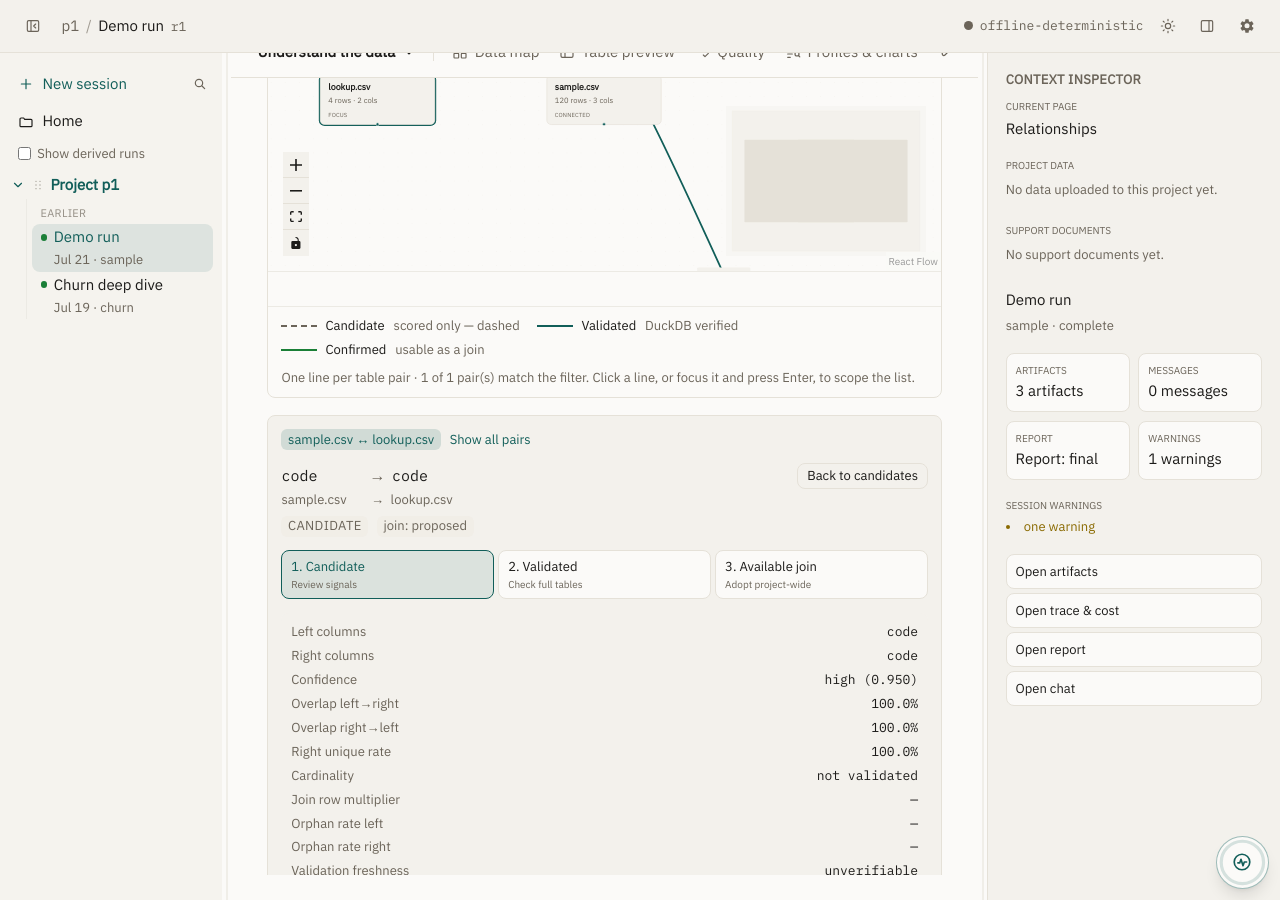
Test case: Relationships page › restores score, confidence, pair, and edge context from the URL
(page scrolled)
Expected: the list named "Relationship review progress" is shown, [282,550,928,599]
Click the button "Back to candidates".
click(863, 476)  # box [797,463,928,489]
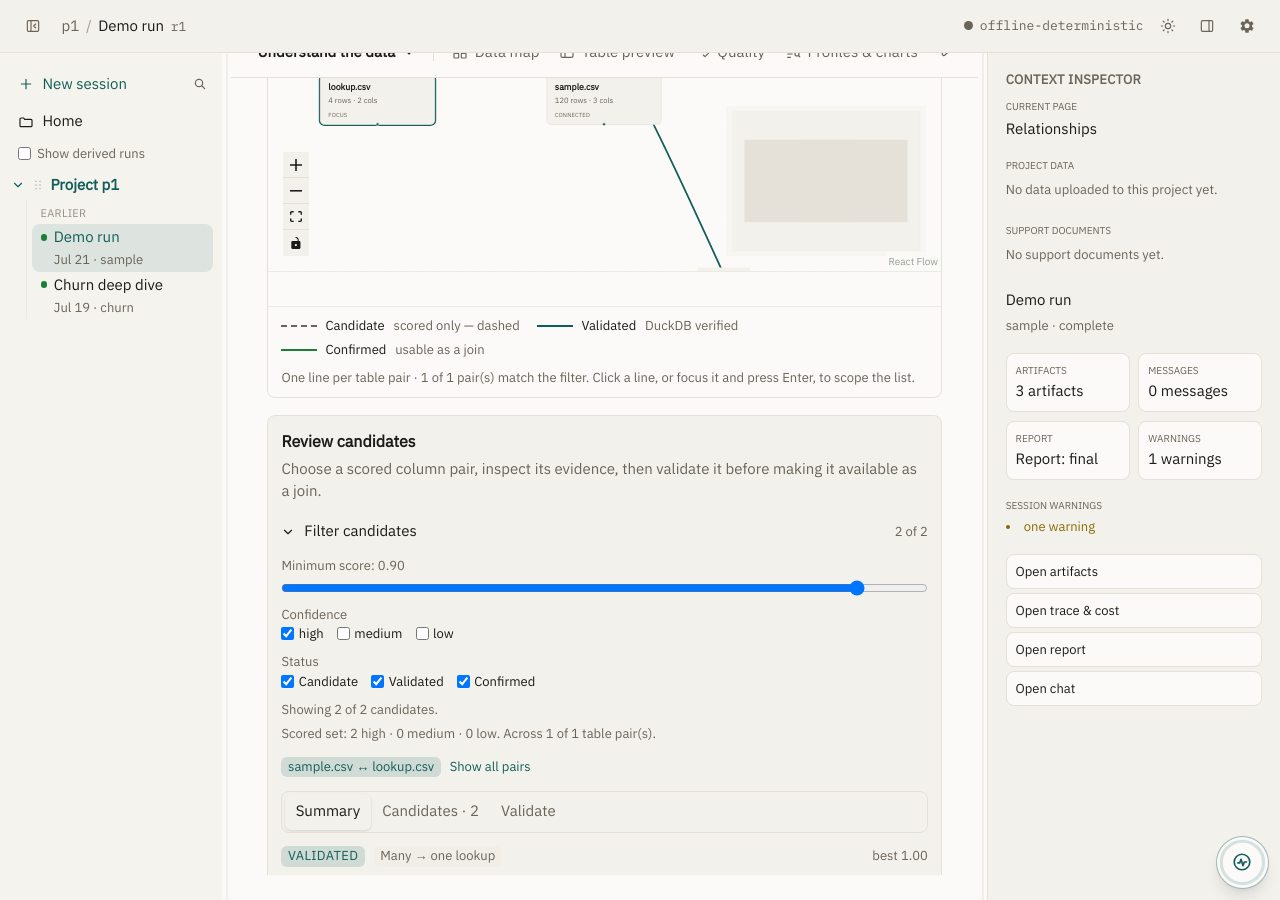
Expected: the slider labelled "Minimum score: 0.90" holds "0.9", [282,580,928,596]
Expected: the checkbox labelled "high" is checked, [282,627,294,640]
Expected: the checkbox labelled "medium" is not checked, [337,627,350,640]
